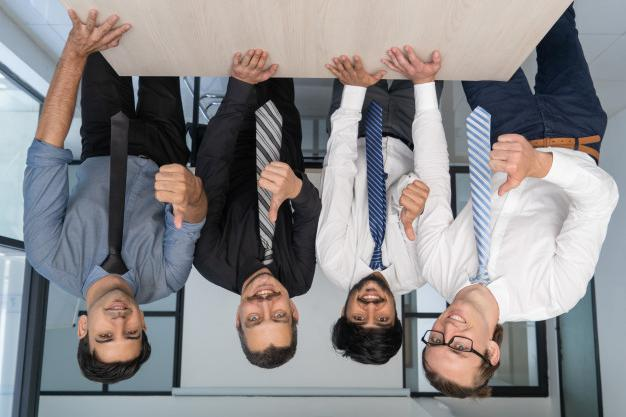thumbsdown: (488, 134, 525, 197), (154, 163, 188, 230), (258, 161, 290, 223), (399, 180, 430, 242)
